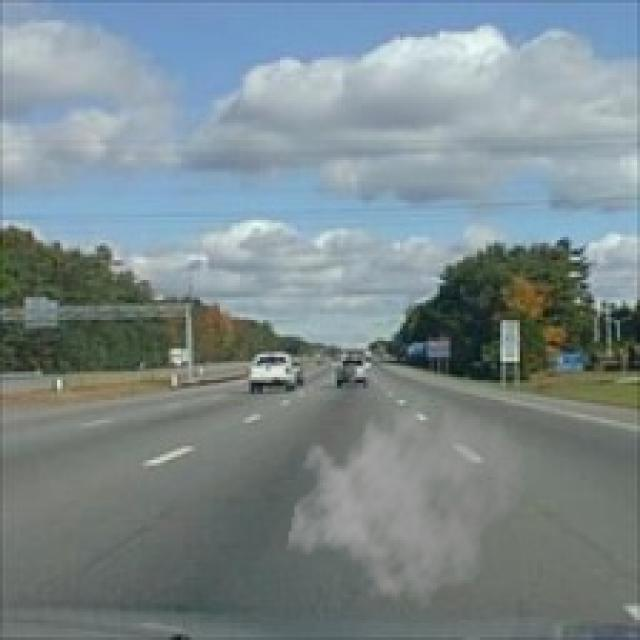Smoke: (286, 383, 528, 611)
